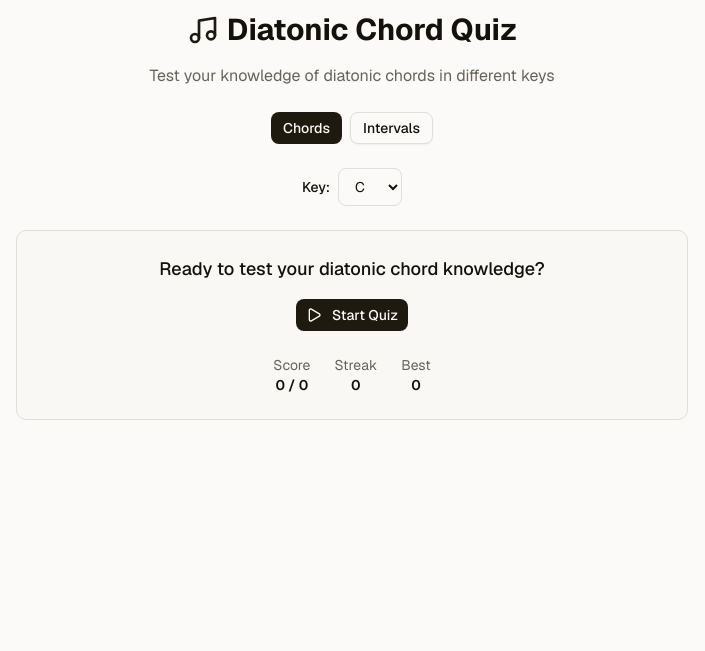
Test: DiatonicQuiz › feedback appears after answering
What coordinates should you click on to do the following:
click the button with test id "start-btn"
I would click on:
 (352, 315)
Its box is [296,299,408,331].
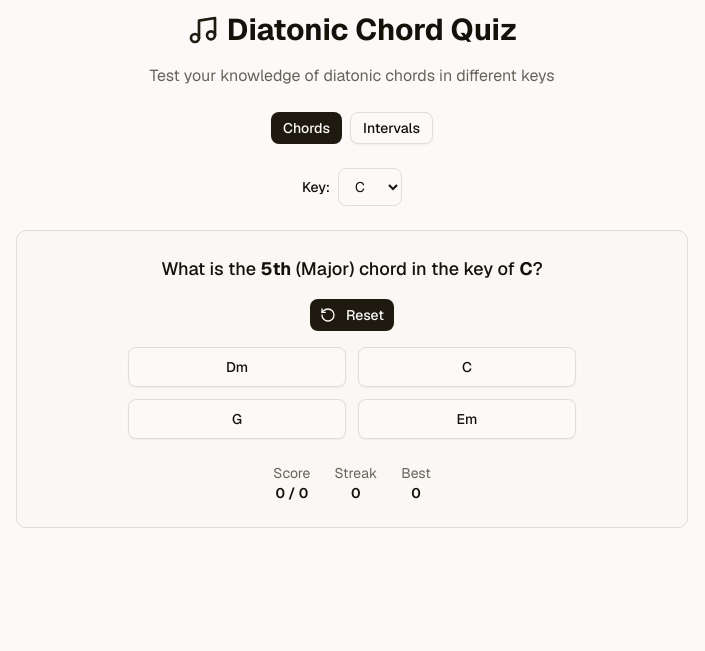
What coordinates should you click on to do the following:
click the button with test id "quiz-option-0"
I would click on:
 (237, 367)
Its box is [128,347,346,387].
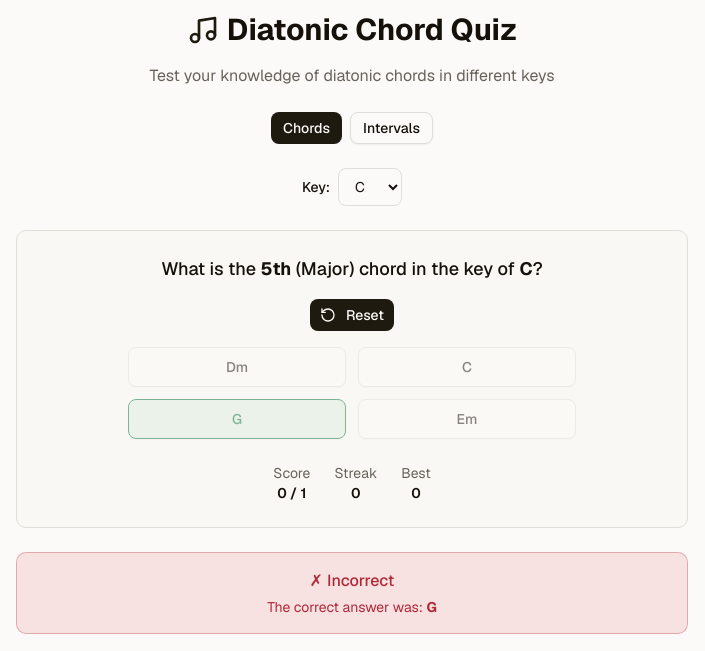
Result: the element with test id "feedback-overlay" is shown at [16,552,688,634]
